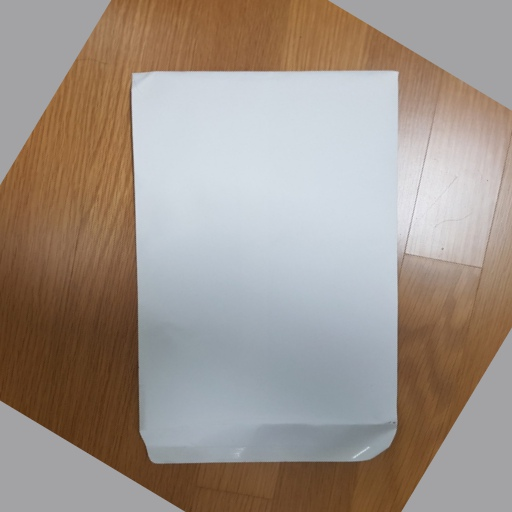Paper_2: (123, 67, 413, 470)
